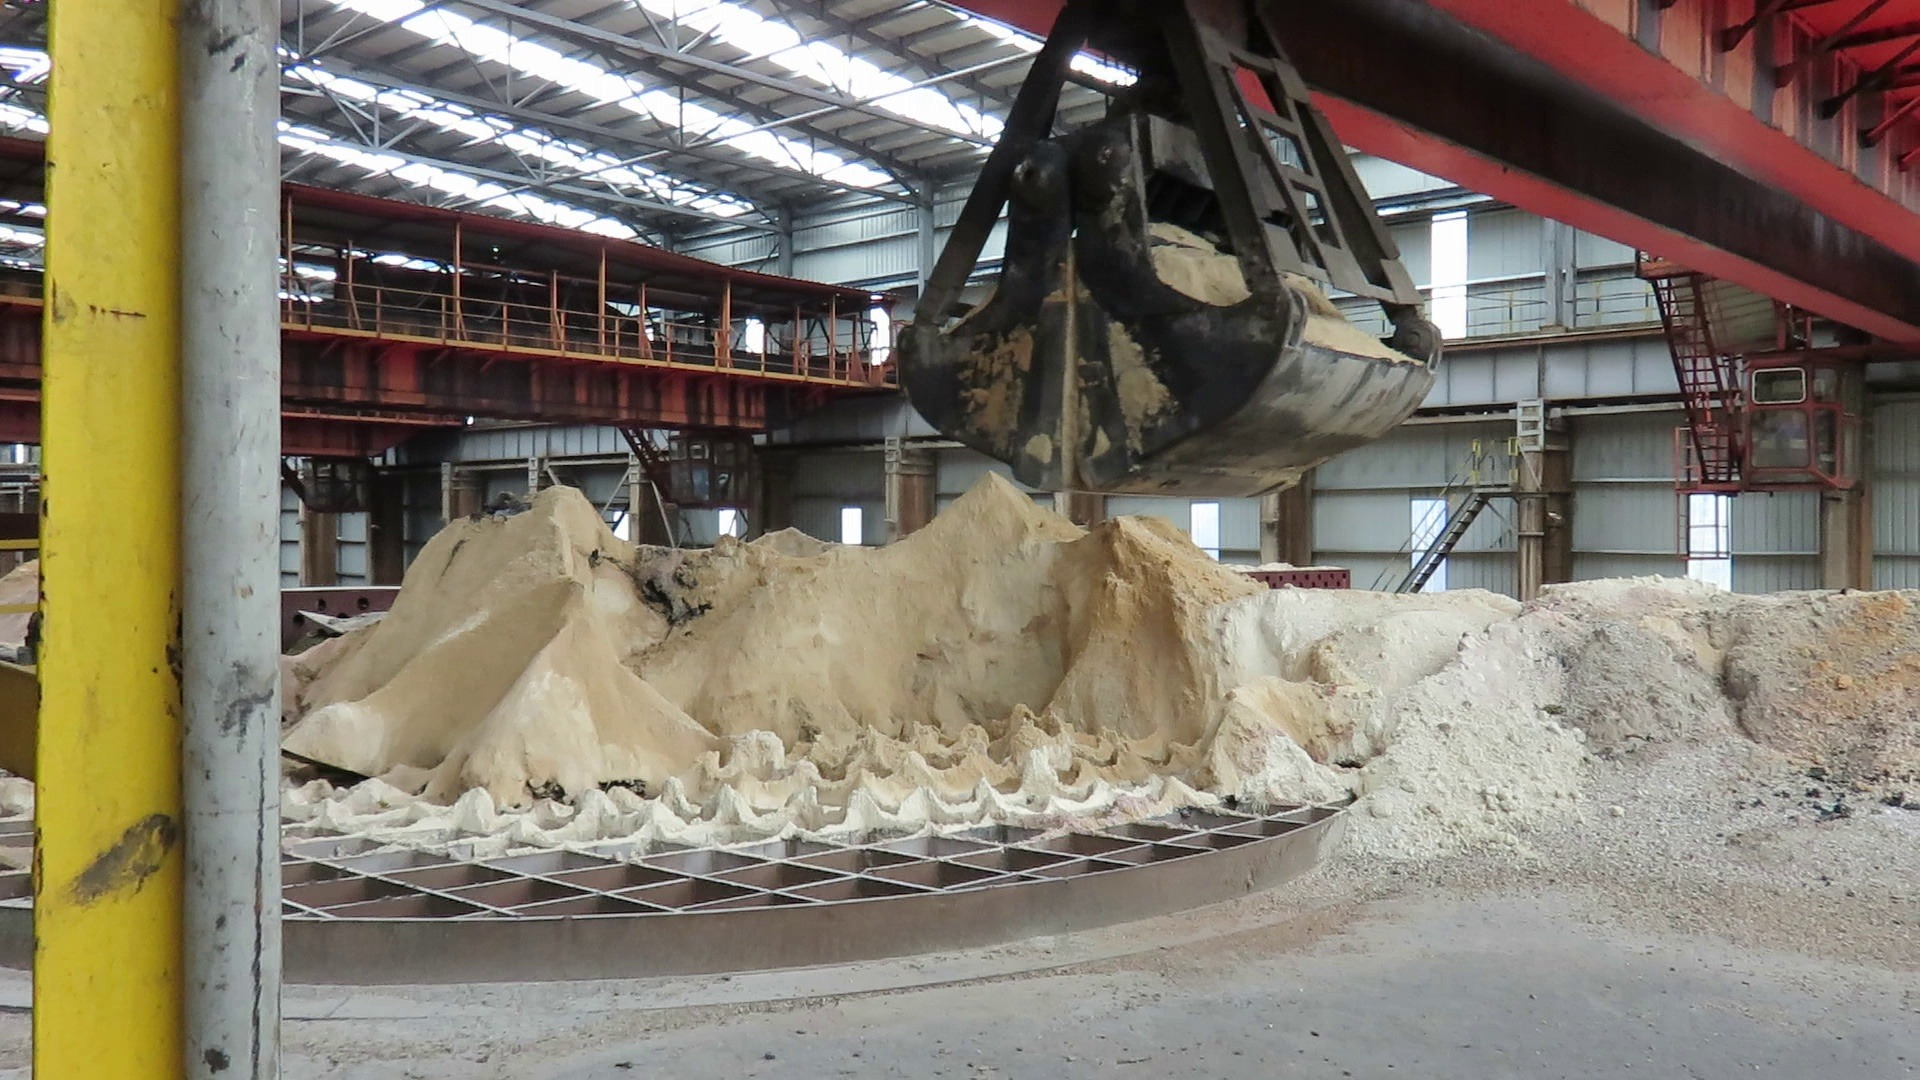grab: (886, 0, 1447, 502)
